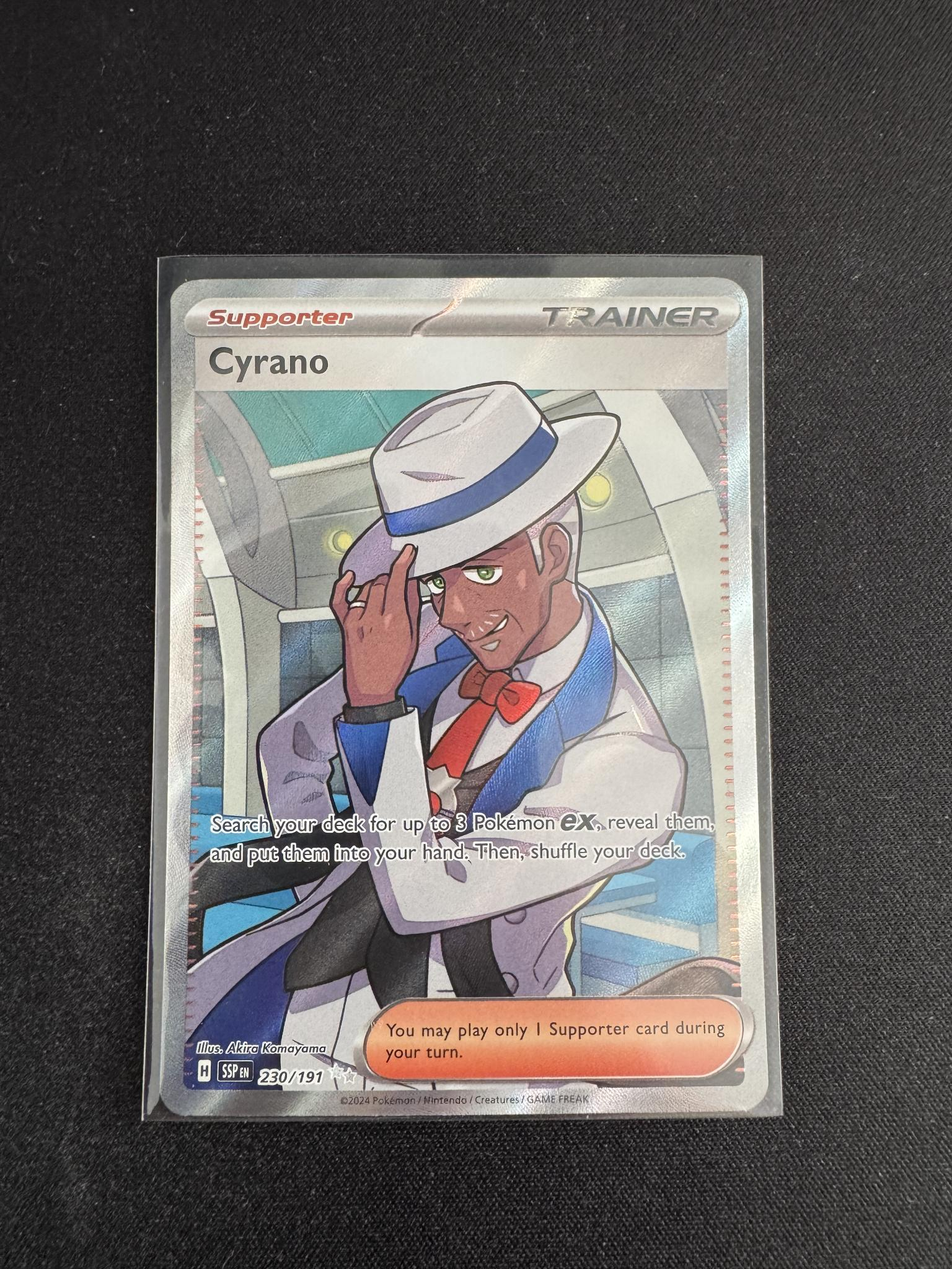card-2UtV: (160, 277, 769, 1117)
